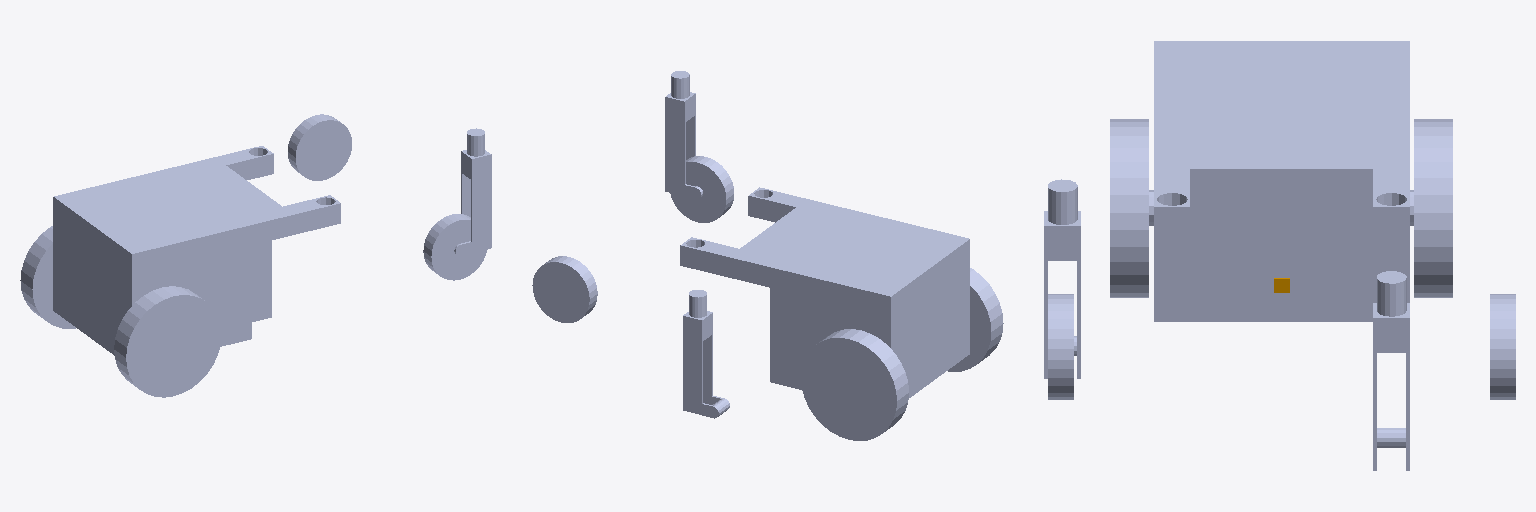
The robot description file, URDF, robot "wheele":
<?xml version="1.0" encoding="utf-8"?>
<!-- This URDF was automatically created by SolidWorks to URDF Exporter! Originally created by [author] ([email redacted]) 
     Commit Version: 1.6.0-4-g7f85cfe  Build Version: 1.6.7995.38578
     For more information, please see http://wiki.ros.org/sw_urdf_exporter -->
<robot
  name="wheele">

  <link
    name="base_link">
    <inertial>
      <origin
        xyz="-0.0527414453514239 -1.08270102171577E-06 0.207668676561577"
        rpy="0 0 0" />
      <mass
        value="91.1648574707324" />
      <inertia
        ixx="3.16732019149984"
        ixy="4.74759163822904E-05"
        ixz="-0.32026788285614"
        iyy="3.23556377175086"
        iyz="1.49370499763123E-05"
        izz="3.88981086562858" />
    </inertial>
    <visual>
      <origin
        xyz="0 0 0"
        rpy="0 0 0" />
      <geometry>
        <mesh
          filename="package://wheele_description/meshes/base_link.STL" />
      </geometry>
      <material
        name="">
        <color
          rgba="0.792156862745098 0.819607843137255 0.933333333333333 1" />
      </material>
    </visual>
    <collision>
      <origin
        xyz="0 0 0"
        rpy="0 0 0" />
      <geometry>
        <mesh
          filename="package://wheele_description/meshes/base_link.STL" />
      </geometry>
    </collision>
  </link>
  <link
    name="back_right">
    <inertial>
      <origin
        xyz="0 0 0"
        rpy="0 0 0" />
      <mass
        value="6.60646736275211" />
      <inertia
        ixx="0.0537384278699751"
        ixy="-2.83245372789545E-19"
        ixz="5.75494615143155E-06"
        iyy="0.102710694072585"
        iyz="2.79438793816295E-21"
        izz="0.0551658293551905" />
    </inertial>
    <visual>
      <origin
        xyz="0 0 0"
        rpy="0 0 0" />
      <geometry>
        <cylinder length="0.075" radius="0.1725"/>
        <!-- <mesh
          filename="package://wheele_description/meshes/back_right.STL" /> -->
      </geometry>
      <material
        name="">
        <color
          rgba="0.792156862745098 0.819607843137255 0.933333333333333 1" />
      </material>
    </visual>
    <collision>
      <origin
        xyz="0 0 0"
        rpy="0 0 0" />
      <geometry>
        <cylinder length="0.075" radius="0.1725"/>
        <!-- <mesh
          filename="package://wheele_description/meshes/back_right.STL" /> -->
      </geometry>
    </collision>
  </link>
  <joint
    name="back_right_joint"
    type="continuous">
    <origin
      xyz="-0.18900826298859 -0.2925 0.0865540661871362"
      rpy="1.570796 0 0" />
    <parent
      link="base_link" />
    <child
      link="back_right" />
    <axis
      xyz="0 0 -1" />
    <limit
      lower="0"
      upper="0"
      effort="30"
      velocity="30" />
  </joint>
  <link
    name="back_left">
    <inertial>
      <origin
        xyz="0 0 0"
        rpy="0 0 0" />
      <mass
        value="6.60646736275211" />
      <inertia
        ixx="0.0537442322482938"
        ixy="2.17176629849951E-19"
        ixz="-9.1019815591947E-05"
        iyy="0.102710694072585"
        iyz="8.13484965324198E-20"
        izz="0.0551600249768718" />
    </inertial>
    <visual>
      <origin
        xyz="0 0 0"
        rpy="0 0 0" />
      <geometry>
        <cylinder length="0.075" radius="0.1725"/>
        <!-- <mesh
          filename="package://wheele_description/meshes/back_left.STL" /> -->
      </geometry>
      <material
        name="">
        <color
          rgba="0.792156862745098 0.819607843137255 0.933333333333333 1" />
      </material>
    </visual>
    <collision>
      <origin
        xyz="0 0 0"
        rpy="0 0 0" />
      <geometry>
        <cylinder length="0.075" radius="0.1725"/>
        <!-- <mesh
          filename="package://wheele_description/meshes/back_left.STL" /> -->
      </geometry>
    </collision>
  </link>
  <joint
    name="back_left_joint"
    type="continuous">
    <origin
      xyz="-0.188876080974237 0.2925 0.086557998260536"
      rpy="1.570796 0 0" />
    <parent
      link="base_link" />
    <child
      link="back_left" />
    <axis
      xyz="0 0 -1" />
    <limit
      lower="0"
      upper="0"
      effort="30"
      velocity="30" />
  </joint>
  <link
    name="front_right">
    <inertial>
      <origin
        xyz="0 0 0"
        rpy="0 0 0" />
      <mass
        value="0.912192812599195" />
      <inertia
        ixx="0.0138058169636317"
        ixy="5.46192947538798E-07"
        ixz="-0.001500259510951"
        iyy="0.0140839705934447"
        iyz="2.76870935230357E-06"
        izz="0.00126687371083358" />
    </inertial>
    <visual>
      <origin
        xyz="0 0 0"
        rpy="0 0 0" />
      <geometry>
        <mesh
          filename="package://wheele_description/meshes/front_right.STL" />
      </geometry>
      <material
        name="">
        <color
          rgba="0.792156862745098 0.819607843137255 0.933333333333333 1" />
      </material>
    </visual>
    <collision>
      <origin
        xyz="0 0 0"
        rpy="0 0 0" />
      <geometry>
        <mesh
          filename="package://wheele_description/meshes/front_right.STL" />
      </geometry>
    </collision>
  </link>
  <joint
    name="front_right_joint"
    type="continuous">
    <origin
      xyz="0.420280325881049 -0.210737844390247 0.224921137899497"
      rpy="0 0 0" />
    <parent
      link="base_link" />
    <child
      link="front_right" />
    <axis
      xyz="0 0 1" />
    <limit
      lower="0"
      upper="0"
      effort="0"
      velocity="0" />
  </joint>
  <link
    name="front_right_wheel">
    <inertial>
      <origin
        xyz="0 0 0"
        rpy="0 0 0" />
      <mass
        value="1.54915886155044" />
      <inertia
        ixx="0.00448990415075851"
        ixy="-1.72978181410294E-14"
        ixz="1.41226640854449E-05"
        iyy="0.00849384204724026"
        iyz="6.12208093531569E-17"
        izz="0.00464942075546111" />
    </inertial>
    <visual>
      <origin
        xyz="0 0 0"
        rpy="0 0 0" />
      <geometry>
        <cylinder length="0.05" radius="0.1025"/>
        <!-- <mesh
          filename="package://wheele_description/meshes/front_right_wheel.STL" /> -->
      </geometry>
      <material
        name="">
        <color
          rgba="0.792156862745098 0.819607843137255 0.933333333333333 1" />
      </material>
    </visual>
    <collision>
      <origin
        xyz="0 0 0"
        rpy="0 0 0" />
      <geometry>
        <cylinder length="0.05" radius="0.1025"/>
        <!-- <mesh
          filename="package://wheele_description/meshes/front_right_wheel.STL" /> -->
      </geometry>
    </collision>
  </link>
  <joint
    name="front_right_wheel_joint"
    type="continuous">
    <origin
        xyz="0.353115955501745 -0.213251292865238 0.016979906377674"
        rpy="1.570796 0 0" />
    <parent
      link="front_right" />
    <child
      link="front_right_wheel" />
    <axis
      xyz="0 0 1" />
    <limit
      lower="0"
      upper="0"
      effort="0"
      velocity="0" />
  </joint>
  <link
    name="front_left">
    <inertial>
      <origin
        xyz="0 0 0"
        rpy="0 0 0" />
      <mass
        value="0.912192812599195" />
      <inertia
        ixx="0.0138058169636317"
        ixy="5.46192947538807E-07"
        ixz="-0.00150025951095099"
        iyy="0.0140839705934447"
        iyz="2.76870935230368E-06"
        izz="0.00126687371083358" />
    </inertial>
    <visual>
      <origin
        xyz="0 0 0"
        rpy="0 0 0" />
      <geometry>
        <mesh
          filename="package://wheele_description/meshes/front_left.STL" />
      </geometry>
      <material
        name="">
        <color
          rgba="0.792156862745098 0.819607843137255 0.933333333333333 1" />
      </material>
    </visual>
    <collision>
      <origin
        xyz="0 0 0"
        rpy="0 0 0" />
      <geometry>
        <mesh
          filename="package://wheele_description/meshes/front_left.STL" />
      </geometry>
    </collision>
  </link>
  <joint
    name="front_left_joint"
    type="continuous">
    <origin
      xyz="0.4202803258812 0.211263448474515 0.224921137899497"
      rpy="0 0 0" />
    <parent
      link="base_link" />
    <child
      link="front_left" />
    <axis
      xyz="0 0 1" />
    <limit
      lower="0"
      upper="0"
      effort="0"
      velocity="0" />
  </joint>
  <link
    name="front_left_wheel">
    <inertial>
      <origin
        xyz="0 0 0"
        rpy="0 0 0" />
      <mass
        value="1.54915886155044" />
      <inertia
        ixx="0.00456756149249647"
        ixy="-1.70000757444159E-18"
        ixz="8.09717382753578E-05"
        iyy="0.00849384204724026"
        iyz="-5.54219037160218E-19"
        izz="0.00457176341372314" />
    </inertial>
    <visual>
      <origin
        xyz="0 0 0"
        rpy="0 0 0" />
      <geometry>
        <cylinder length="0.05" radius="0.1025"/>
        <!-- <mesh
          filename="package://wheele_description/meshes/front_left_wheel.STL" /> -->
      </geometry>
      <material
        name="">
        <color
          rgba="0.792156862745098 0.819607843137255 0.933333333333333 1" />
      </material>
    </visual>
    <collision>
      <origin
        xyz="0 0 0"
        rpy="0 0 0" />
      <geometry>
        <cylinder length="0.05" radius="0.1025"/>
        <!-- <mesh
          filename="package://wheele_description/meshes/front_left_wheel.STL" /> -->
      </geometry>
    </collision>
  </link>
  <joint
    name="front_left_wheel_joint"
    type="continuous">
    <origin
        xyz="0.353115955501745 0.213251292865238 0.016979906377674"
        rpy="1.570796 0 0" />
    <parent
      link="front_left" />
    <child
      link="front_left_wheel" />
    <axis
      xyz="0 0 1" />
    <limit
      lower="0"
      upper="0"
      effort="0"
      velocity="0" />
  </joint>


  <link name="dummy">
  </link>
  <joint name="dummy_joint" type="fixed">
     <parent link="dummy"/>
     <child link="base_link"/>
  </joint>

  <joint name="camera_joint" type="fixed">
    <parent link="base_link"/>
    <child link="camera_link"/>
    <origin xyz="0.145 0 0.08" rpy="0 0 0"/>
  </joint>

  <link name="camera_link">
    <visual>
      <geometry>
        <box size="0.010 0.03 0.03"/>
      </geometry>
    </visual>
  </link>

  <gazebo reference="camera_link">
    <sensor name="camera" type="depth">
      <update_rate>20</update_rate>
      <pose> 0 0 0 0 0 0 </pose>
      <visualize>true</visualize>
      <camera>
        <horizontal_fov>1.047198</horizontal_fov>
        <image>
          <width>640</width>
          <height>480</height>
          <format>R8G8B8</format>
        </image>
        <clip>
          <near>0.05</near>
          <far>3</far>
        </clip>
      </camera>

      <plugin name="camera_plugin" filename="libgazebo_ros_openni_kinect.so">
        <baseline>0.2</baseline>
        <alwaysOn>true</alwaysOn>
        <!-- Keep this zero, update_rate in the parent <sensor> tag
          will control the frame rate. -->
        <updateRate>0.0</updateRate>
        <cameraName>camera_ir</cameraName>
        <imageTopicName>/camera/color/image_raw</imageTopicName>
        <cameraInfoTopicName>/camera/color/camera_info</cameraInfoTopicName>
        <depthImageTopicName>/camera/depth/image_raw</depthImageTopicName>
        <depthImageCameraInfoTopicName>/camera/depth/camera_info</depthImageCameraInfoTopicName>
        <pointCloudTopicName>/camera/depth/points</pointCloudTopicName>
        <frameName>camera_link</frameName>
        <pointCloudCutoff>0.5</pointCloudCutoff>
        <pointCloudCutoffMax>3.0</pointCloudCutoffMax>
        <distortionK1>0</distortionK1>
        <distortionK2>0</distortionK2>
        <distortionK3>0</distortionK3>
        <distortionT1>0</distortionT1>
        <distortionT2>0</distortionT2>
        <CxPrime>0</CxPrime>
        <Cx>0</Cx>
        <Cy>0</Cy>
        <focalLength>0</focalLength>
        <hackBaseline>0</hackBaseline>
      </plugin>
    </sensor>
  </gazebo> 

  <gazebo> 
    <plugin name="odom_plugin" filename="libgazebo_ros_p3d.so">
      <alwaysOn>true</alwaysOn>
      <updateRate>50.0</updateRate>
      <bodyName>base_link</bodyName>
      <topicName>/odom</topicName>
      <gaussianNoise>0.0</gaussianNoise>
      <frameName>map</frameName>
    </plugin>
  </gazebo> 

  <transmission name="back_right_tran">
    <type>transmission_interface/SimpleTransmission</type>
    <joint name="back_right_joint">
      <hardwareInterface>hardware_interface/VelocityJointInterface</hardwareInterface>
    </joint>
    <actuator name="back_right_motor">
      <hardwareInterface>hardware_interface/VelocityJointInterface</hardwareInterface>
      <mechanicalReduction>1</mechanicalReduction>
    </actuator>
  </transmission>

  <transmission name="back_left_tran">
    <type>transmission_interface/SimpleTransmission</type>
    <joint name="back_left_joint">
      <hardwareInterface>hardware_interface/VelocityJointInterface</hardwareInterface>
    </joint>
    <actuator name="back_left_motor">
      <hardwareInterface>hardware_interface/VelocityJointInterface</hardwareInterface>
      <mechanicalReduction>1</mechanicalReduction>
    </actuator>
  </transmission>

  <gazebo>
    <plugin name="gazebo_ros_control" filename="libgazebo_ros_control.so">
      <robotNamespace>/wheele</robotNamespace>
    </plugin>
  </gazebo>

  <!-- <gazebo>
    <plugin name="differential_drive_controller" filename="libgazebo_ros_diff_drive.so">
      <legacyMode>false</legacyMode>
      <alwaysOn>true</alwaysOn>
      <updateRate>10</updateRate>
      <leftJoint>back_left_joint</leftJoint>
      <rightJoint>back_right_joint</rightJoint>
      <wheelSeparation>0.4</wheelSeparation>
      <wheelDiameter>0.2</wheelDiameter>
      <torque>10</torque>
      <commandTopic>cmd_vel</commandTopic>
      <odometryTopic>odom</odometryTopic>
      <odometryFrame>odom</odometryFrame>
      <robotBaseFrame>chassis</robotBaseFrame>
    </plugin>
  </gazebo> -->

</robot>

--- What the picture shows (computed from the rendered views, not written in the file) ---
3 views of the same robot in one strip: view 1: azimuth 30°, elevation 25°; view 2: azimuth 150°, elevation 25°; view 3: azimuth 270°, elevation 25° (orthographic).
Robot: wheele — 9 links, 8 joints (6 continuous, 2 fixed); root link dummy; default pose: every joint at zero.
Links seen in each view (by area): view 1: base_link, back_right, front_right, front_left_wheel, front_right_wheel, back_left, front_left; view 2: base_link, back_left, front_left, front_right, front_left_wheel, front_right_wheel, back_right; view 3: base_link, back_right, back_left, front_left, front_right, front_right_wheel, front_left_wheel.
Boxes of the visible links, x1,y1,x2,y2 form: base_link: (53, 146, 340, 355); back_right: (114, 286, 221, 397); front_right: (454, 128, 491, 255); front_left_wheel: (288, 114, 351, 180); front_right_wheel: (423, 214, 487, 280); back_left: (20, 226, 75, 328); front_left: (252, 241, 271, 321); base_link: (680, 187, 969, 398); back_left: (801, 329, 908, 440); front_left: (683, 290, 729, 418); front_right: (665, 71, 702, 199); front_left_wheel: (532, 256, 597, 322); front_right_wheel: (670, 156, 733, 222); back_right: (948, 268, 1003, 371); base_link: (1149, 41, 1413, 321); back_right: (1110, 119, 1148, 297); back_left: (1414, 119, 1452, 297); front_left: (1373, 271, 1409, 470); front_right: (1044, 179, 1080, 378); front_right_wheel: (1048, 294, 1073, 399); front_left_wheel: (1490, 294, 1515, 399).
Size in the robot's own frame: 1.25 by 0.906 by 0.7895 metres.
Meshes: 3 distinct files referenced, 3 mesh visuals loaded (3 binary STL).
